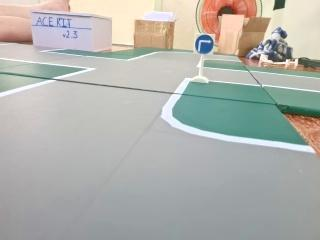right: (191, 30, 218, 55)
